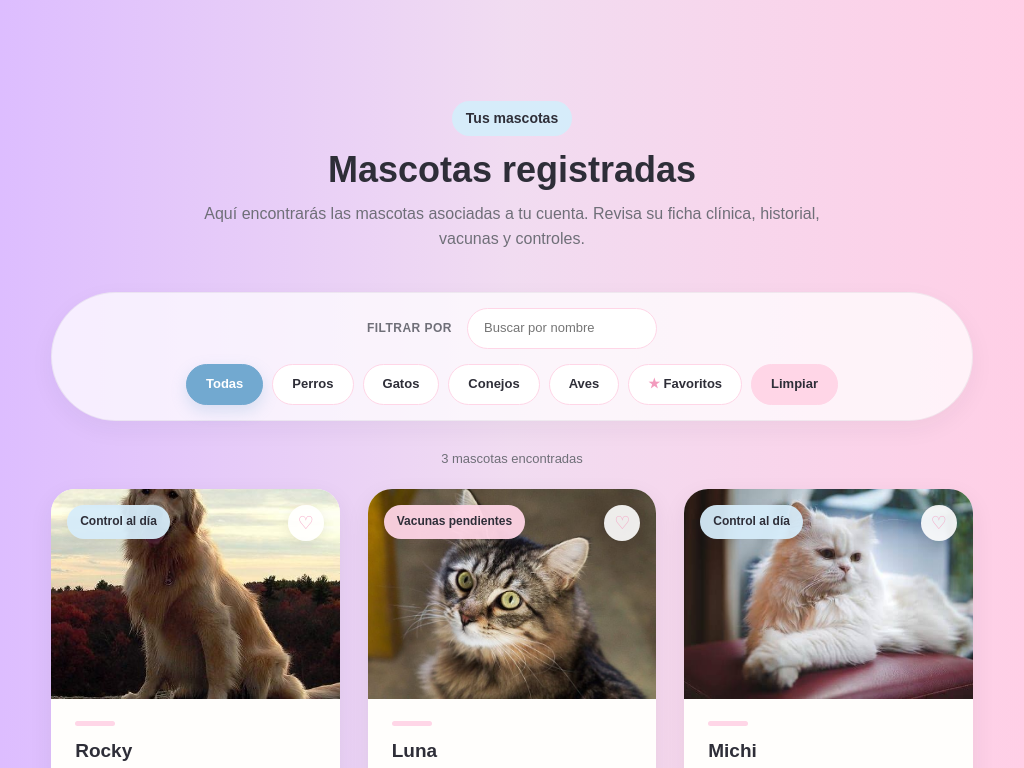
P06 - FILTRO: en Mis mascotas elegir una especie o buscar por nombre reduce la lista
(page scrolled)
Check: the text "3 mascotas encontradas" is shown, box [441,450,583,466]
Click the button "Gatos".
click(401, 384)  # box [362,364,439,405]
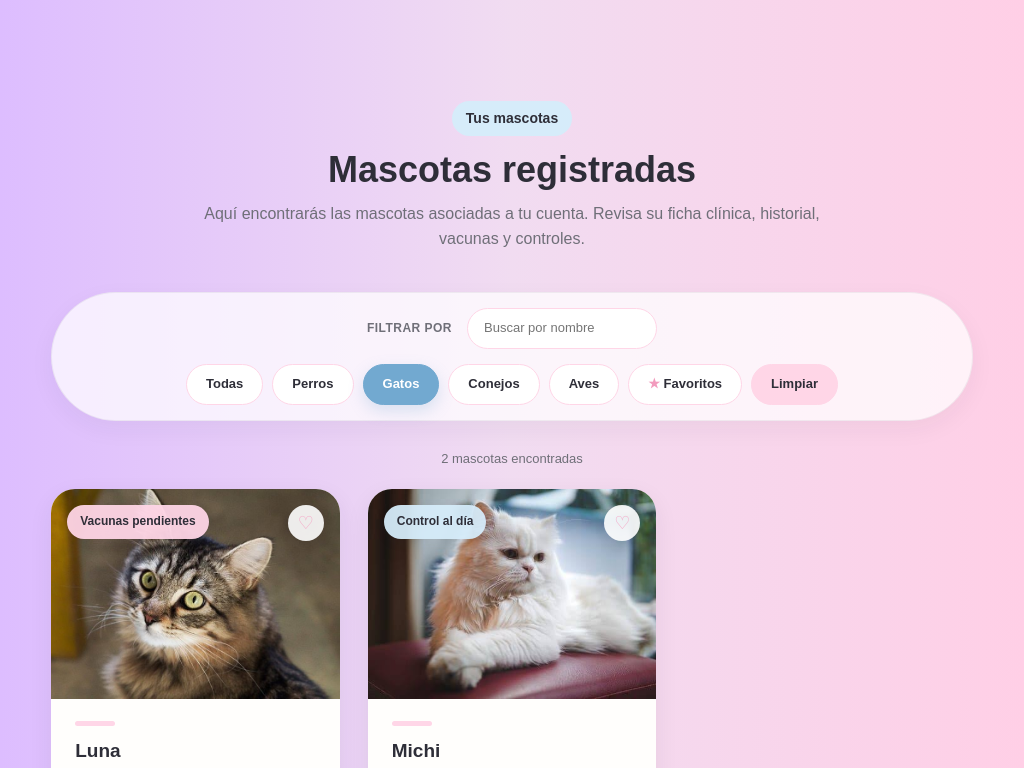
Check: the heading "Luna" is shown, box [75,740,121,761]
Check: the text "2 mascotas encontradas" is shown, box [441,450,583,466]
Check: the heading "Rocky" is gone
Type "Zzz" into the search field named "Buscar mascota por nombre".
click(562, 328); type("Zzz")  # box [467,308,657,349]
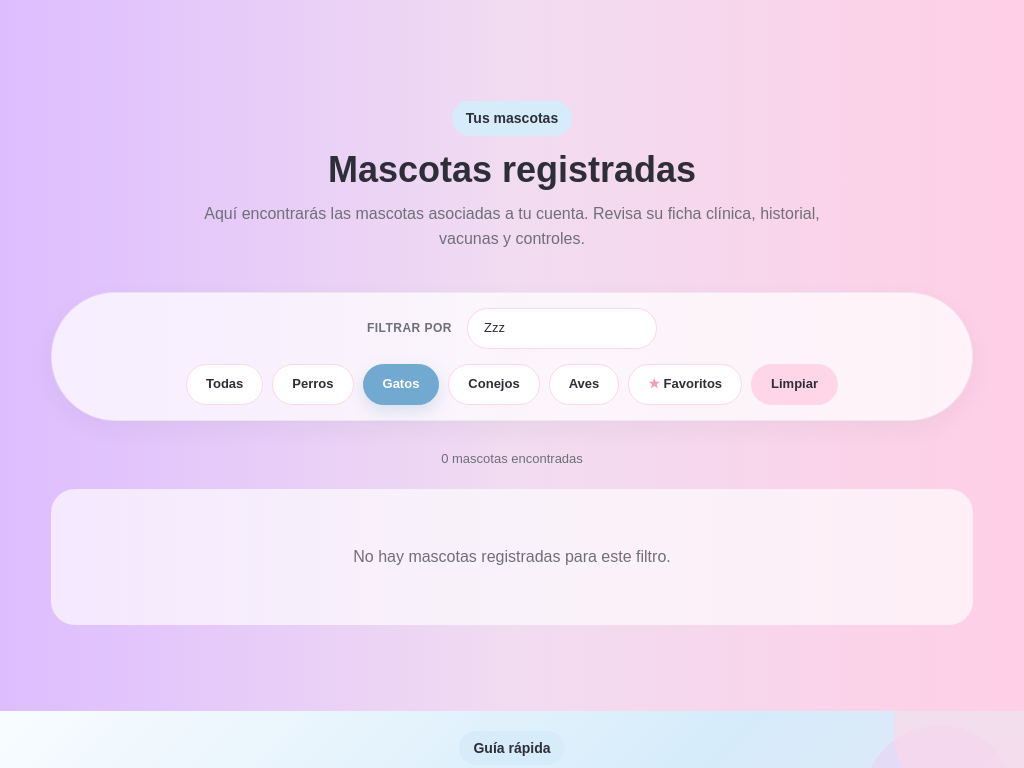
Check: the text "0 mascotas encontradas" is shown, box [441,450,583,466]
